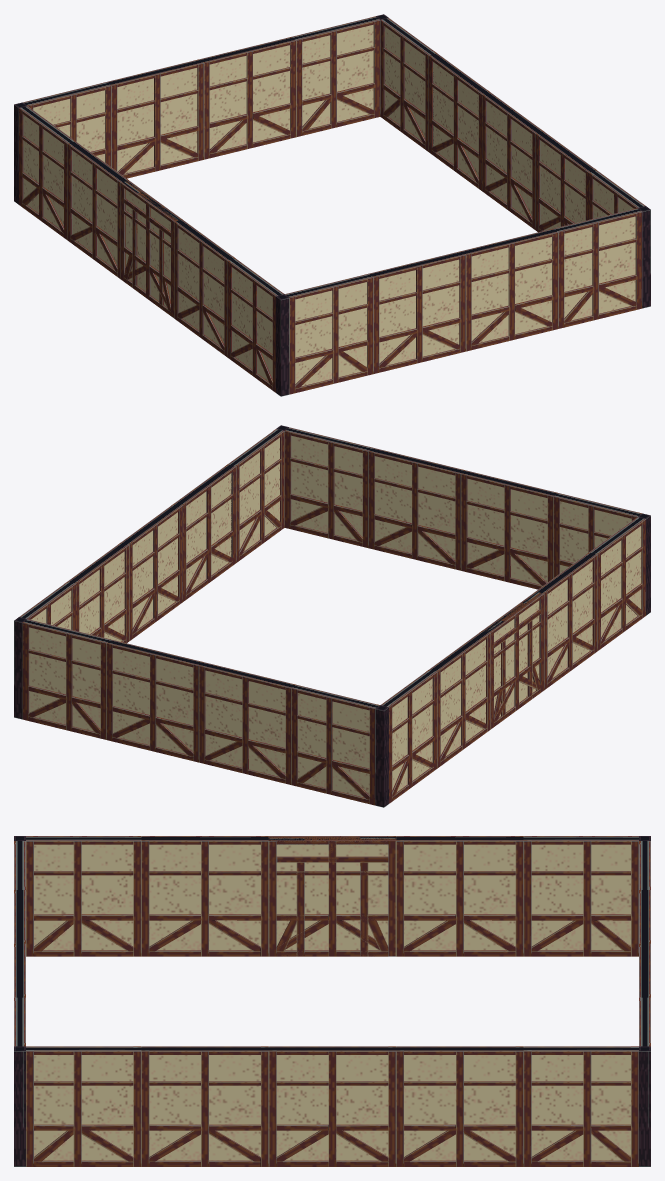
The model's file is Office.fbx.
3 renders of one model, top to bottom at view 1: azimuth 30°, elevation 25°; view 2: azimuth 150°, elevation 25°; view 3: azimuth 270°, elevation 25°, orthographic. The views are drawn at different scales.
Parts seen in each view (by area): view 1: OfficeSide.002, OfficeSide.001, OfficeSide.003, OfficeSide, OfficeWall, OfficeDoor, OfficeCorners; view 2: OfficeSide.001, OfficeSide.002, OfficeSide.003, OfficeSide, OfficeWall, OfficeCorners, OfficeDoor; view 3: OfficeSide.003, OfficeSide, OfficeDoor, OfficeWall, OfficeCorners, OfficeSide.001, OfficeSide.002.
Part boxes in pixels (x1=…): OfficeSide.002: x1=285, y1=208, x2=642, y2=394; OfficeSide.001: x1=23, y1=16, x2=380, y2=178; OfficeSide.003: x1=380, y1=18, x2=645, y2=232; OfficeSide: x1=19, y1=106, x2=284, y2=392; OfficeWall: x1=122, y1=180, x2=182, y2=314; OfficeDoor: x1=120, y1=180, x2=182, y2=318; OfficeCorners: x1=14, y1=14, x2=650, y2=396; OfficeSide.001: x1=22, y1=619, x2=379, y2=805; OfficeSide.002: x1=284, y1=427, x2=641, y2=589; OfficeSide.003: x1=19, y1=429, x2=284, y2=643; OfficeSide: x1=380, y1=517, x2=645, y2=803; OfficeWall: x1=483, y1=592, x2=544, y2=729; OfficeCorners: x1=14, y1=425, x2=650, y2=807; OfficeDoor: x1=482, y1=591, x2=543, y2=728; OfficeSide.003: x1=26, y1=1046, x2=638, y2=1166; OfficeSide: x1=26, y1=836, x2=638, y2=956; OfficeDoor: x1=268, y1=836, x2=396, y2=956; OfficeWall: x1=269, y1=836, x2=395, y2=956; OfficeCorners: x1=14, y1=836, x2=650, y2=1166; OfficeSide.001: x1=639, y1=841, x2=650, y2=1046; OfficeSide.002: x1=14, y1=841, x2=25, y2=1046.
Bounding box in the file's own units: 16 × 20 × 4.
